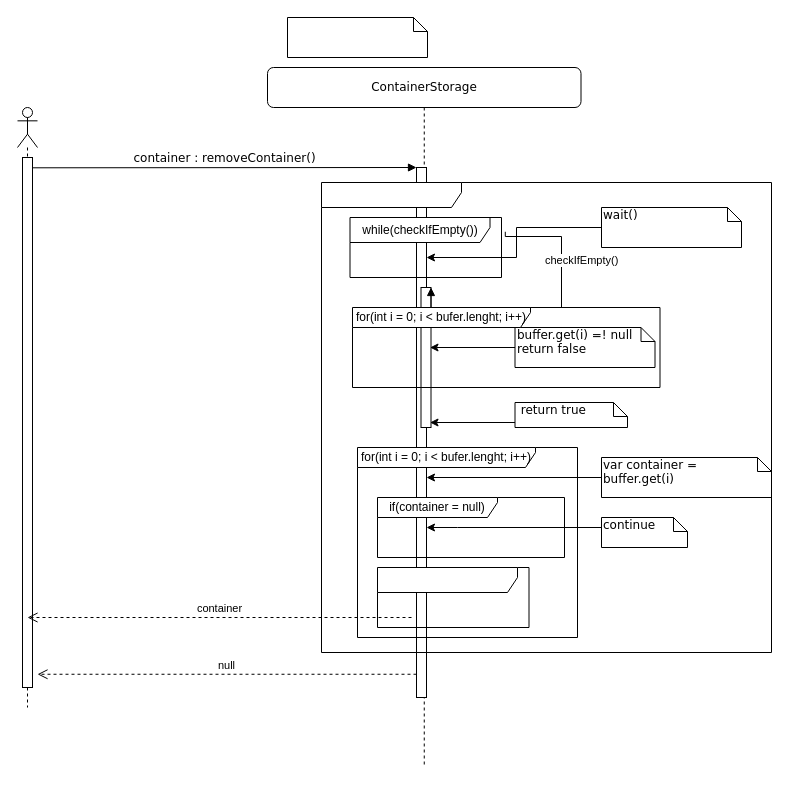
Some shapes in this 789 by 785 pixel diagram are drawn without their labels. Here are the shapes that lost their labels. From the top down, the centre of each, then its label:
At point (357, 37): "buffer = AtomicReferenceArray of containers".
At point (546, 417): "synchonized(buffer)".
At point (452, 597): "synchronized : container".
